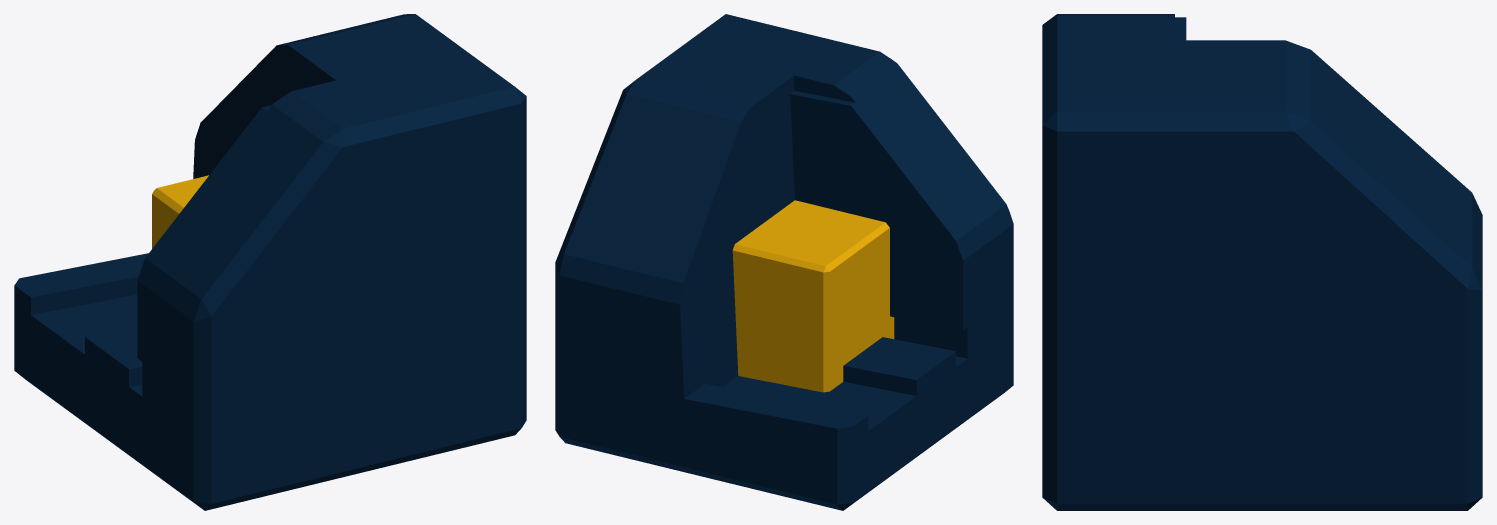
File: physics_b.fbx
The picture shows the model from 3 angles, left to right: view 1: azimuth 30°, elevation 25°; view 2: azimuth 150°, elevation 25°; view 3: azimuth 270°, elevation 25°; orthographic projection. The views are drawn at different scales.
Parts seen in each view (by area): view 1: physics_cube_b; view 2: physics_cube_b; view 3: physics_cube_b.
Part boxes in pixels (x1=…): physics_cube_b: x1=14, y1=14, x2=526, y2=510; physics_cube_b: x1=555, y1=14, x2=1013, y2=510; physics_cube_b: x1=1042, y1=14, x2=1482, y2=510.
Bounding box in the file's own units: 33.52 × 33.52 × 33.52.
